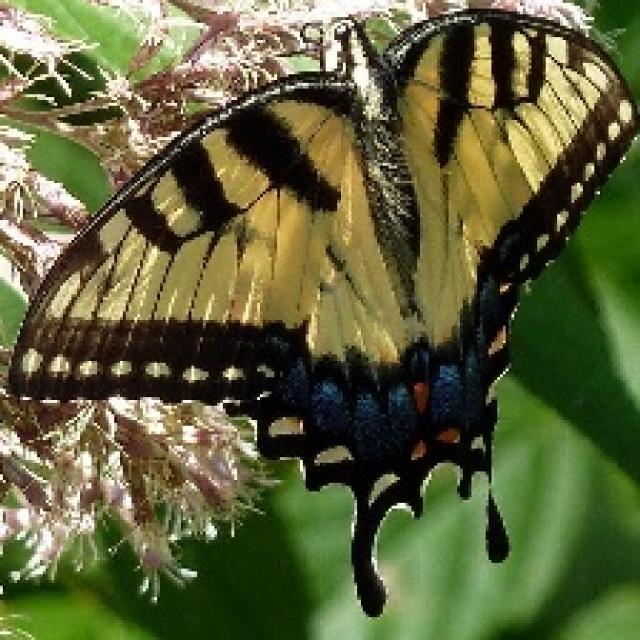butterfly: (3, 3, 637, 614)
